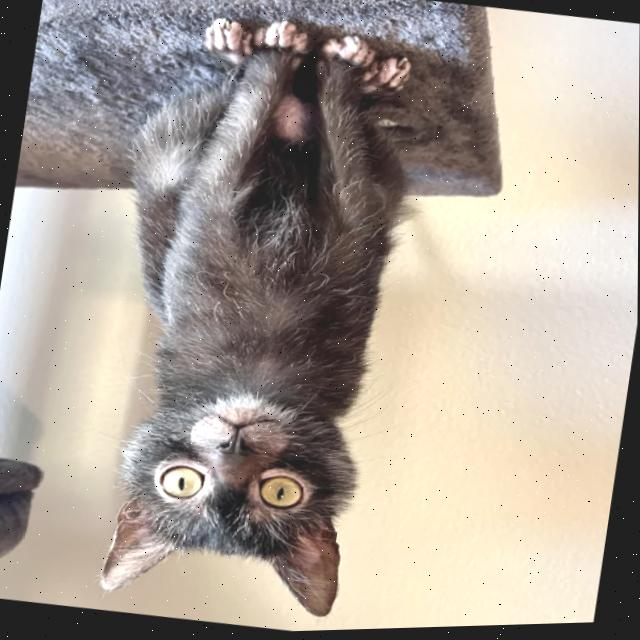Lykoi: (57, 0, 443, 633)
